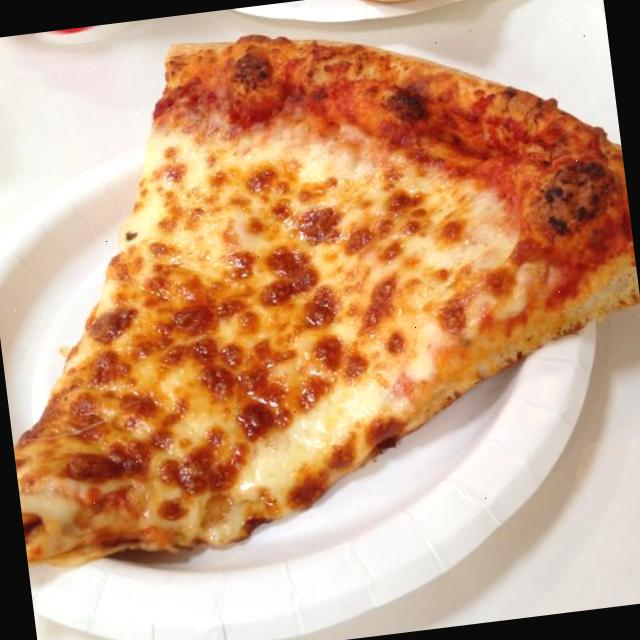pizza: (13, 35, 640, 564)
